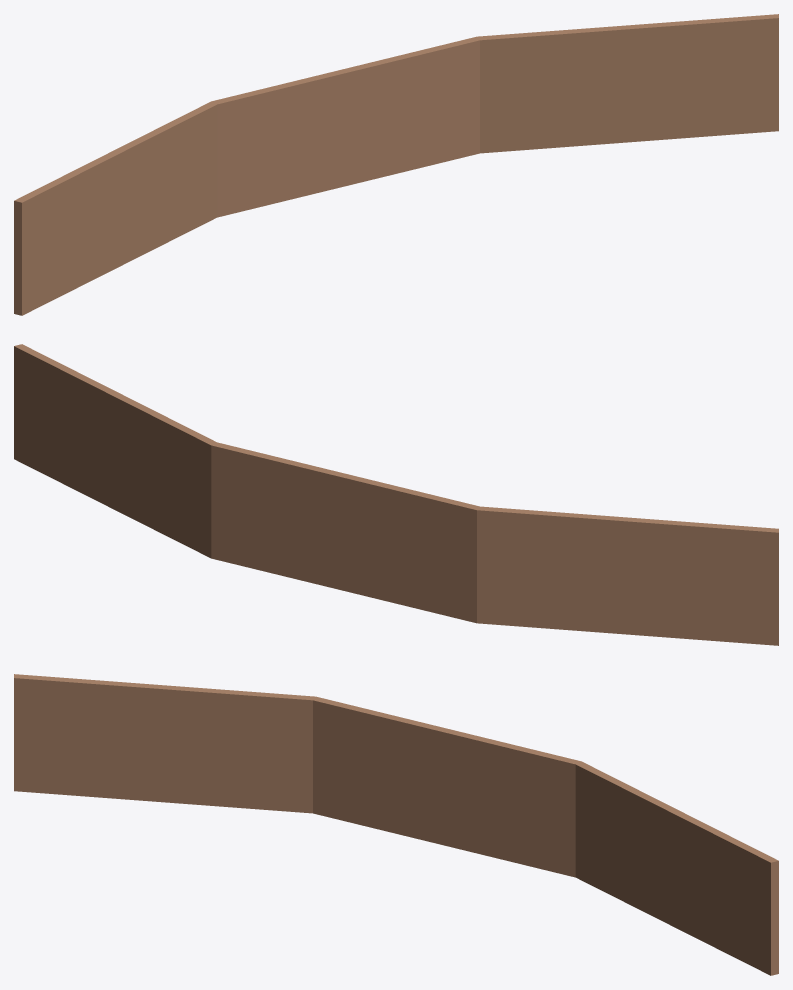
The model's file is prop-hoop-iron-blank-hc1.fbx.
The picture shows the model from 3 angles, top to bottom: view 1: azimuth 30°, elevation 25°; view 2: azimuth 150°, elevation 25°; view 3: azimuth 330°, elevation 25°; orthographic projection.
Visible parts, largest first — view 1: prop-hoop-iron-blank-hc1; view 2: prop-hoop-iron-blank-hc1; view 3: prop-hoop-iron-blank-hc1.
Part boxes in pixels (<box>): prop-hoop-iron-blank-hc1: <box>14,14,778,315</box>; prop-hoop-iron-blank-hc1: <box>14,344,778,645</box>; prop-hoop-iron-blank-hc1: <box>14,674,778,975</box>.
Size of the model in its own units: 28.3 by 4 by 3.62.
